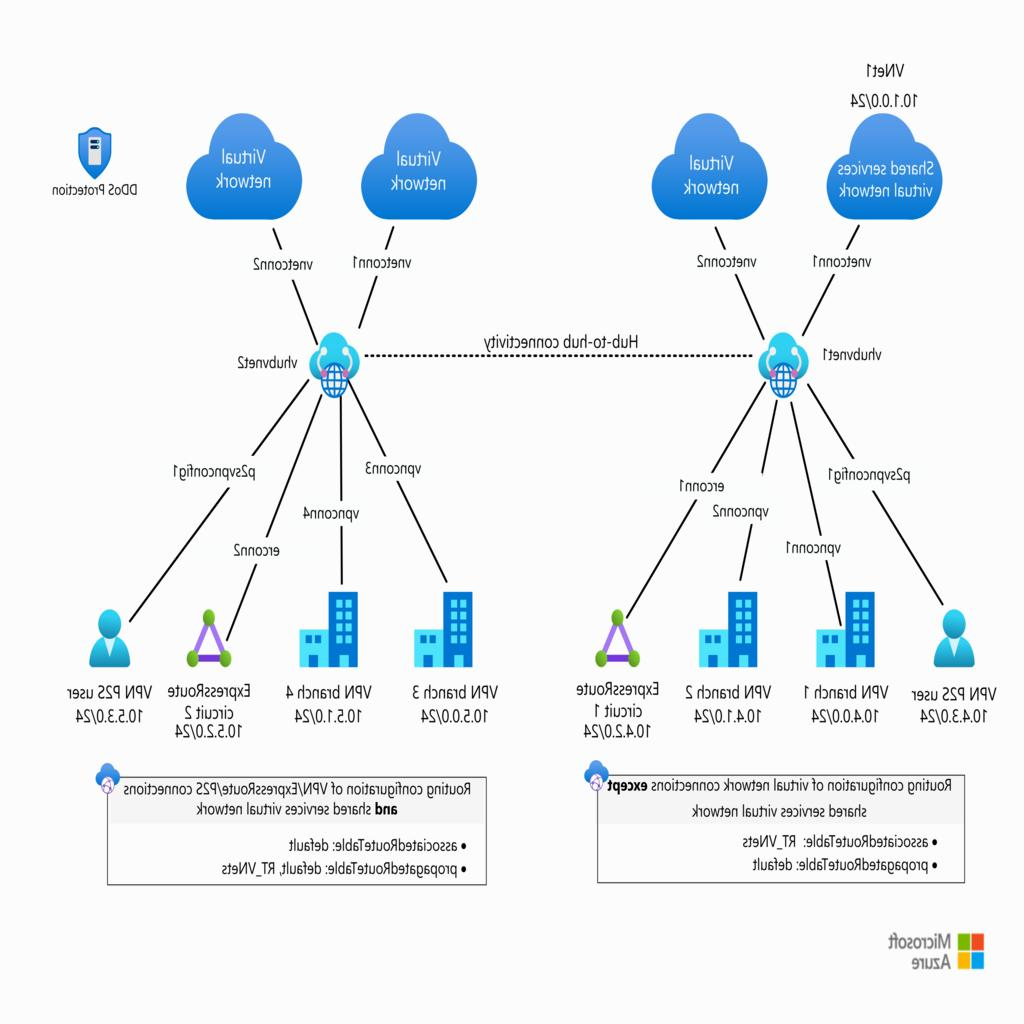actor: (820, 589, 872, 671), (431, 589, 482, 671), (304, 589, 355, 671), (704, 589, 754, 671), (934, 610, 980, 670), (88, 610, 134, 670)
data_flow: (128, 384, 312, 609), (804, 384, 937, 609), (640, 384, 763, 609), (352, 384, 444, 609), (230, 384, 322, 609), (794, 384, 834, 609), (750, 384, 782, 609), (706, 222, 758, 335), (809, 222, 860, 335), (261, 222, 312, 335), (364, 222, 414, 335), (366, 350, 754, 360), (338, 384, 348, 609)
network_security: (756, 330, 812, 397), (308, 330, 364, 397), (596, 610, 642, 670), (187, 610, 233, 670), (78, 123, 114, 174)
trust_boundary: (825, 118, 944, 220), (650, 118, 769, 220), (184, 118, 303, 220), (358, 118, 476, 220)
